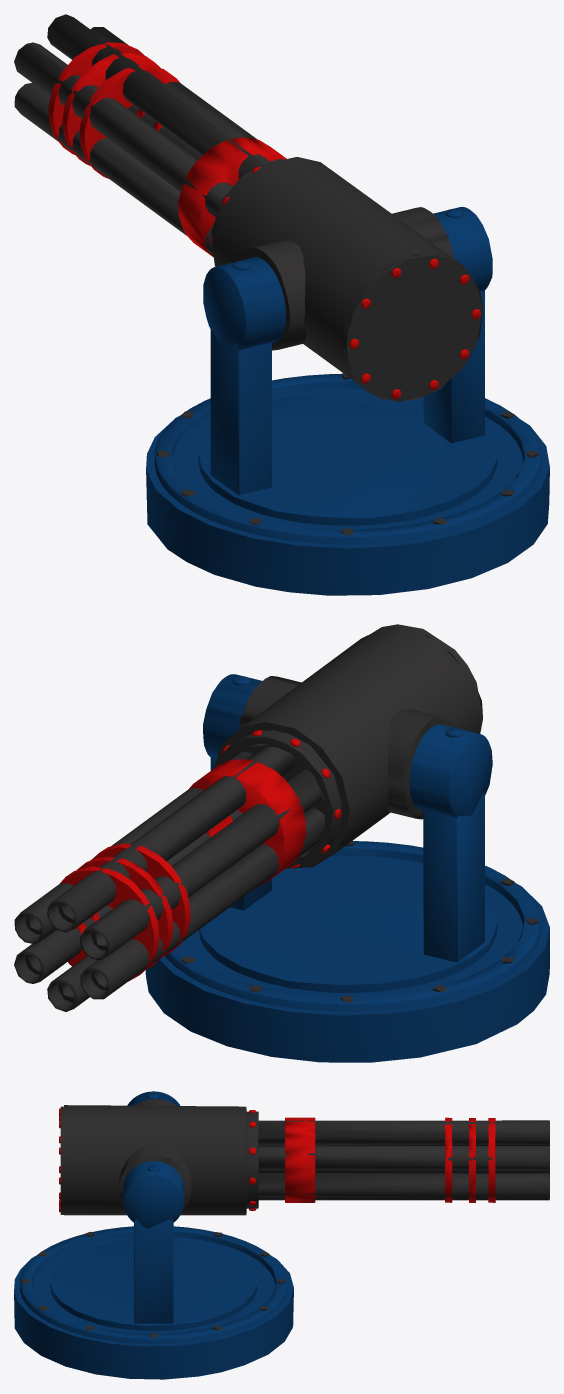
Rendered from Gatling Gun Turret ReducedPolygons.fbx.
3 views of the same model, one above another, from view 1: azimuth 30°, elevation 25°; view 2: azimuth 150°, elevation 25°; view 3: azimuth 270°, elevation 25° (orthographic). The views are drawn at different scales.
Visible parts, largest first — view 1: Cylinder_2_1_3, Tube_6_1_3, Cylinder_9_3, Cylinder_6_3, Tube_3_5_1_3, Tube_1_6_3, Tube_2_6_3, Tube_6_6_3, Cylinder_1_3, Tube_3_6_3, Cylinder_1_10_1_3; view 2: Tube_6_1_3, Cylinder_2_1_3, Cylinder_9_3, Cylinder_6_3, Tube_3_5_1_3, Tube_1_6_3, Tube_2_6_3, Tube_6_6_3, Cylinder_1_3, Tube_4_6_3, Tube_3_6_3, Tube_5_6_3; view 3: Cylinder_2_1_3, Cylinder_9_3, Tube_6_1_3, Cylinder_6_3, Tube_2_6_3, Tube_4_6_3, Tube_3_6_3, Tube_3_5_1_3, Cylinder_1_3, Tube_6_6_3, Tube_5_6_3.
Part boxes in pixels (x1,y1,x2,y2): Cylinder_2_1_3: (211, 157, 483, 402); Tube_6_1_3: (154, 207, 540, 544); Cylinder_9_3: (146, 388, 549, 595); Cylinder_6_3: (198, 391, 497, 525); Tube_3_5_1_3: (48, 42, 286, 257); Tube_1_6_3: (14, 42, 232, 216); Tube_2_6_3: (47, 14, 270, 178); Tube_6_6_3: (14, 83, 213, 255); Cylinder_1_3: (240, 207, 454, 350); Tube_3_6_3: (90, 27, 257, 139); Cylinder_1_10_1_3: (349, 258, 480, 399); Tube_6_1_3: (165, 674, 540, 1011); Cylinder_2_1_3: (214, 624, 482, 868); Cylinder_9_3: (145, 856, 549, 1062); Cylinder_6_3: (199, 859, 497, 992); Tube_3_5_1_3: (59, 759, 305, 981); Tube_1_6_3: (80, 768, 323, 960); Tube_2_6_3: (47, 744, 295, 932); Tube_6_6_3: (80, 808, 324, 999); Cylinder_1_3: (238, 676, 452, 819); Tube_4_6_3: (14, 810, 242, 983); Tube_3_6_3: (14, 751, 252, 944); Tube_5_6_3: (47, 955, 97, 1011); Cylinder_2_1_3: (60, 1105, 258, 1215); Cylinder_9_3: (14, 1236, 293, 1379); Tube_6_1_3: (20, 1091, 287, 1343); Cylinder_6_3: (50, 1239, 256, 1330); Tube_2_6_3: (258, 1120, 549, 1145); Tube_4_6_3: (258, 1173, 549, 1197); Tube_3_6_3: (258, 1145, 549, 1169); Tube_3_5_1_3: (284, 1117, 495, 1202); Cylinder_1_3: (118, 1099, 191, 1209); Tube_6_6_3: (258, 1169, 549, 1173); Tube_5_6_3: (258, 1197, 549, 1200).
Bounding box in the file's own units: 460 × 380 × 880.
